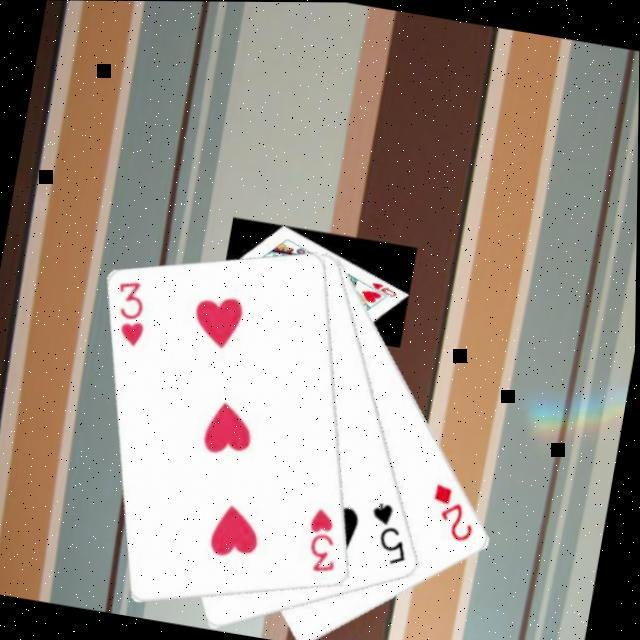2D: (423, 478, 484, 545)
3H: (106, 275, 155, 350), (300, 503, 349, 577)
5S: (361, 495, 419, 568)
